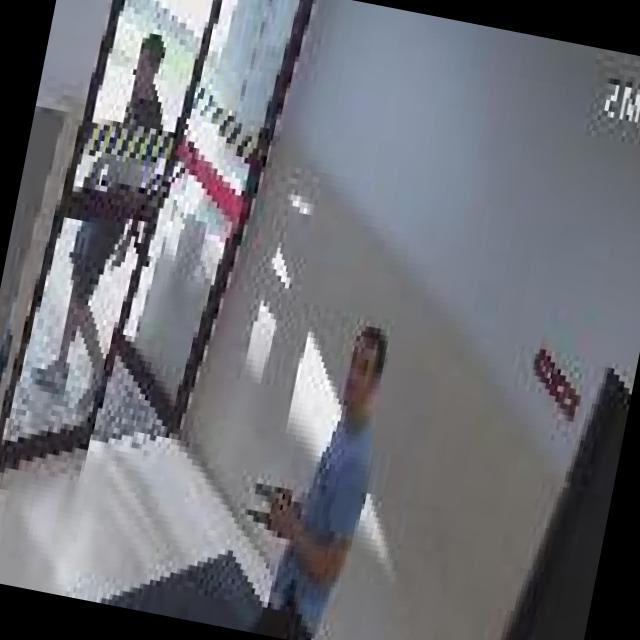Guns: (233, 453, 306, 554)
